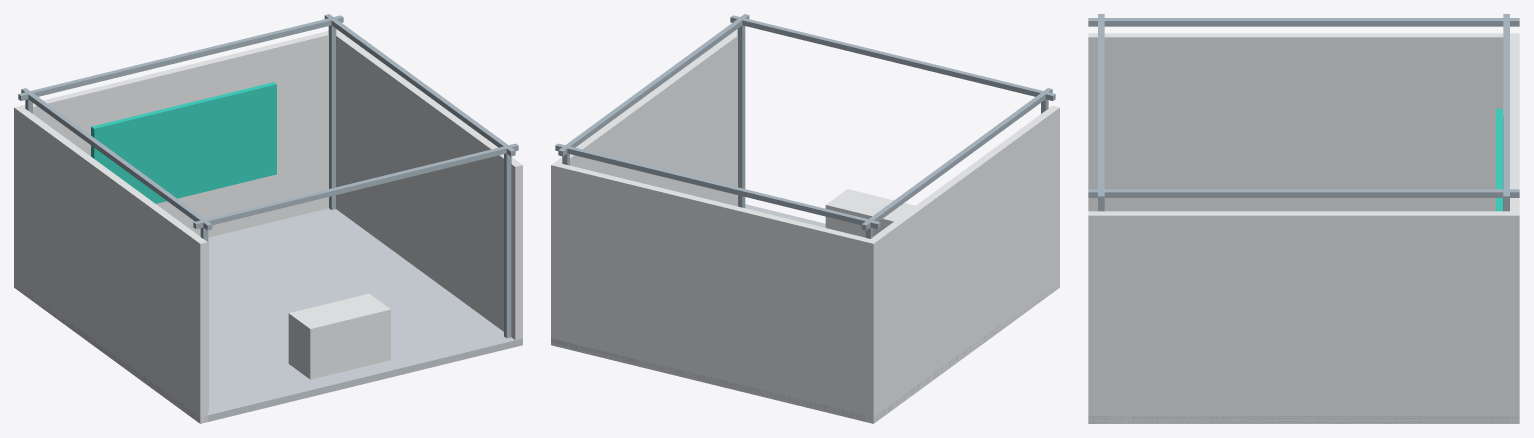
3 renders of one model, left to right at view 1: azimuth 30°, elevation 25°; view 2: azimuth 150°, elevation 25°; view 3: azimuth 270°, elevation 25°, orthographic. The views are drawn at different scales.
Visible parts, largest first — view 1: Exhibition Booth Concept; view 2: Exhibition Booth Concept; view 3: Exhibition Booth Concept.
Boxes of the visible parts, x1,y1,x2,y2 form: Exhibition Booth Concept: (14,14,522,423); Exhibition Booth Concept: (551,14,1059,423); Exhibition Booth Concept: (1088,14,1519,423).
Bounding box in the file's own units: 6 × 3.49 × 6.
